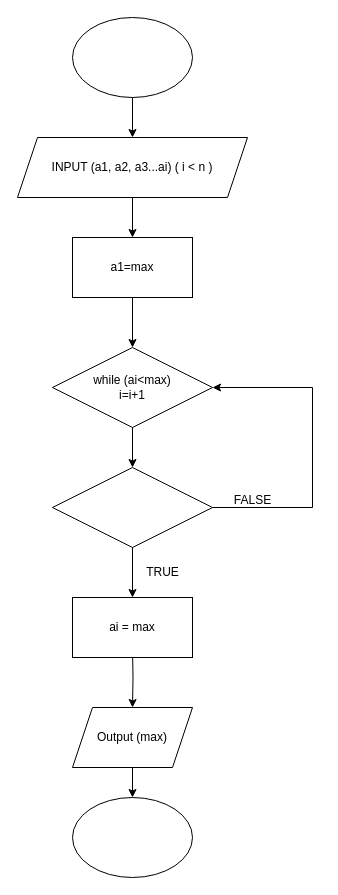
Image size: 338x895. Some labels were removed from this diagram. Each missing label, with the centre of its shape:
"BEGIN" goes at (132,57).
"end" goes at (132,837).
"IF ai>max" goes at (132,507).
